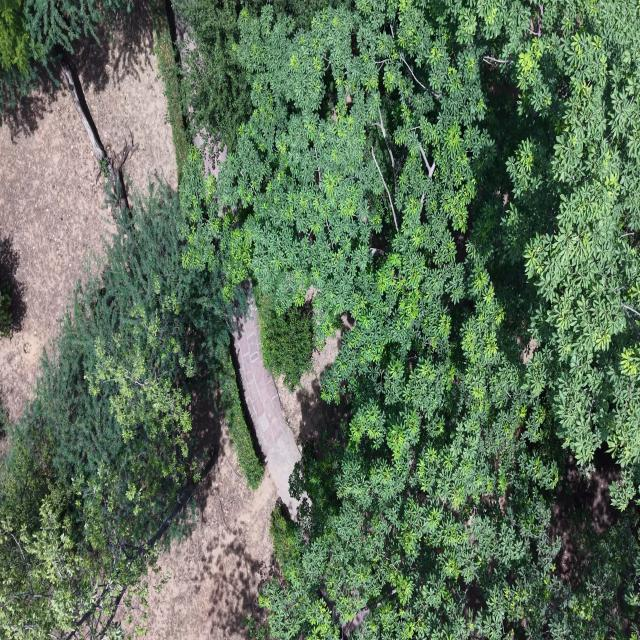DRY_AREA: (147, 304, 343, 639), (148, 305, 343, 639), (147, 306, 299, 639), (0, 83, 111, 419), (0, 88, 112, 419), (0, 87, 110, 418), (0, 92, 109, 419), (147, 423, 288, 639), (147, 428, 277, 639), (234, 300, 346, 519), (234, 300, 344, 519), (234, 301, 340, 519), (234, 301, 339, 519), (72, 0, 176, 185), (76, 4, 177, 190), (237, 306, 349, 450), (275, 315, 352, 455), (549, 450, 620, 583), (551, 458, 619, 580), (275, 333, 347, 447), (193, 127, 227, 178), (194, 129, 227, 178)
PATHWAYS: (234, 300, 300, 519)
VEGETATION_TREE: (0, 0, 639, 639), (188, 0, 639, 638), (0, 185, 243, 639), (506, 2, 639, 510), (0, 442, 153, 638), (0, 0, 137, 210), (0, 0, 136, 208), (173, 0, 269, 150), (0, 0, 131, 109), (58, 52, 138, 215), (174, 0, 251, 147), (177, 147, 247, 308), (178, 147, 250, 300), (180, 147, 249, 284), (151, 0, 189, 182), (23, 0, 131, 64), (219, 358, 264, 489), (256, 291, 313, 390), (0, 0, 36, 108), (0, 0, 29, 72), (0, 287, 12, 336), (0, 400, 8, 437)
